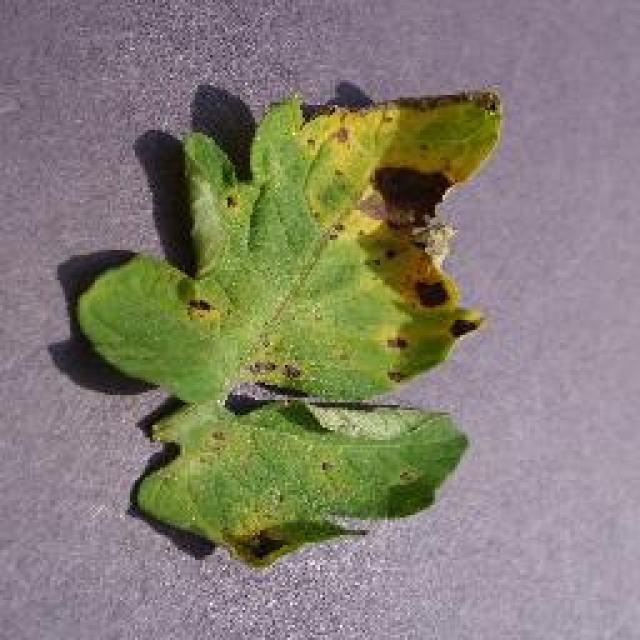Tomato___Septoria_leaf_spot: (75, 92, 500, 562)
